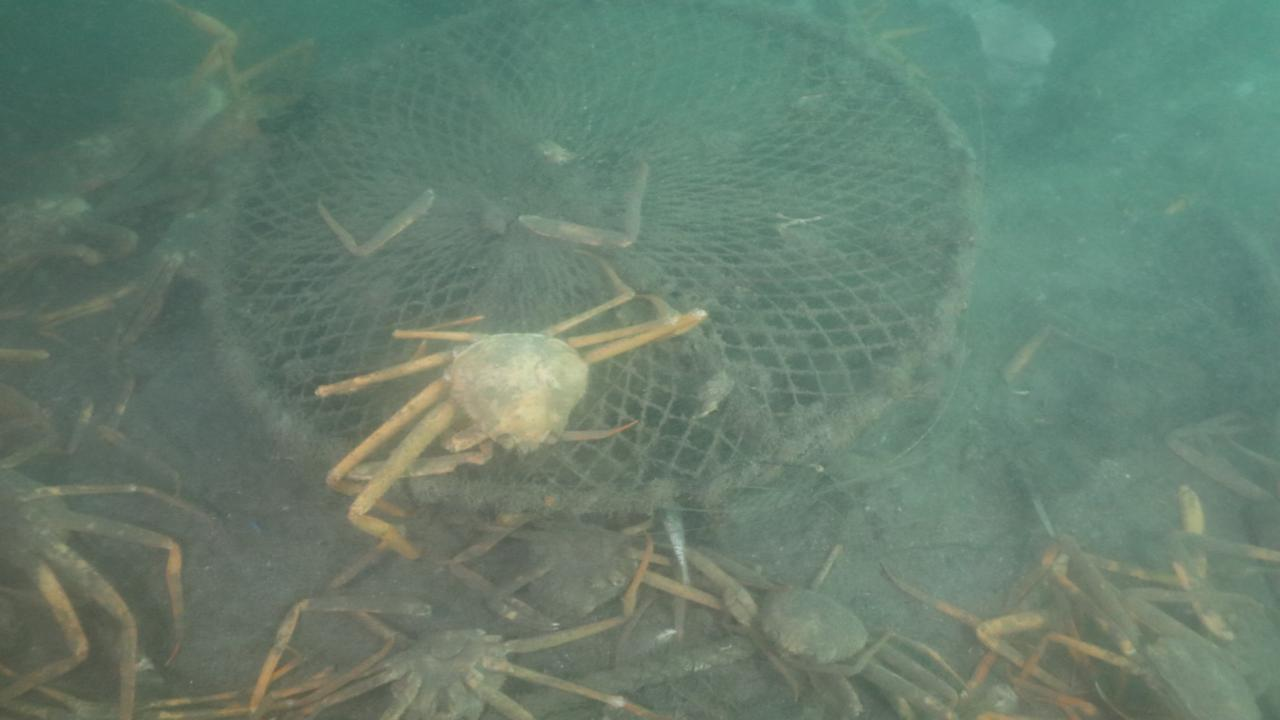circular fish trap: (203, 0, 979, 515)
